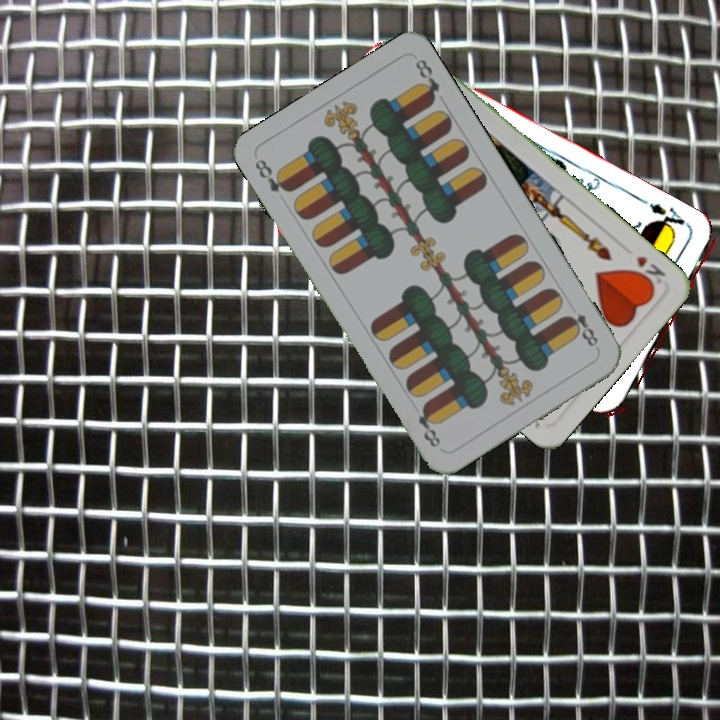E8: (250, 154, 294, 196), (561, 310, 602, 353)
EA: (641, 196, 695, 240)
HK: (632, 251, 669, 280)
